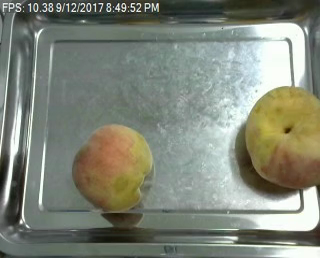Peach: (243, 84, 320, 188), (71, 123, 152, 212)
